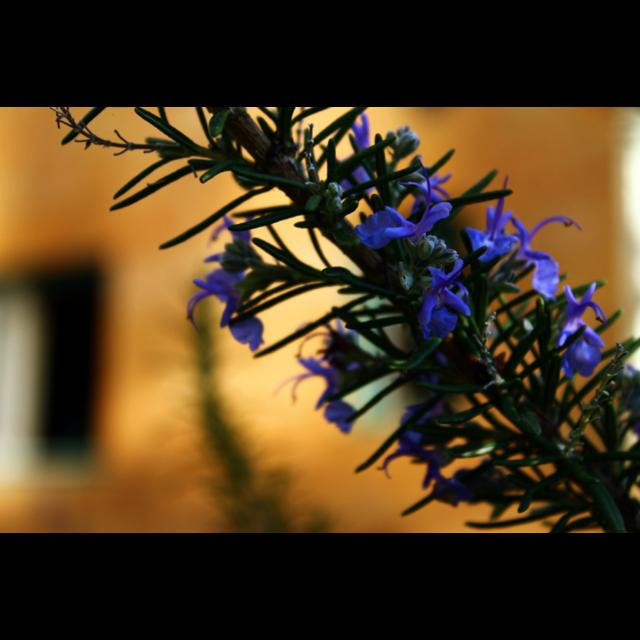Flower: (44, 108, 638, 532), (412, 262, 483, 356)
